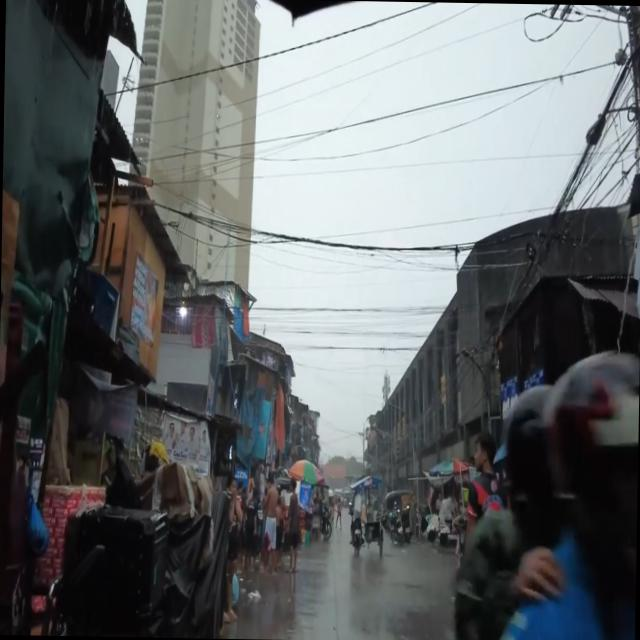full: (538, 353, 640, 632)
